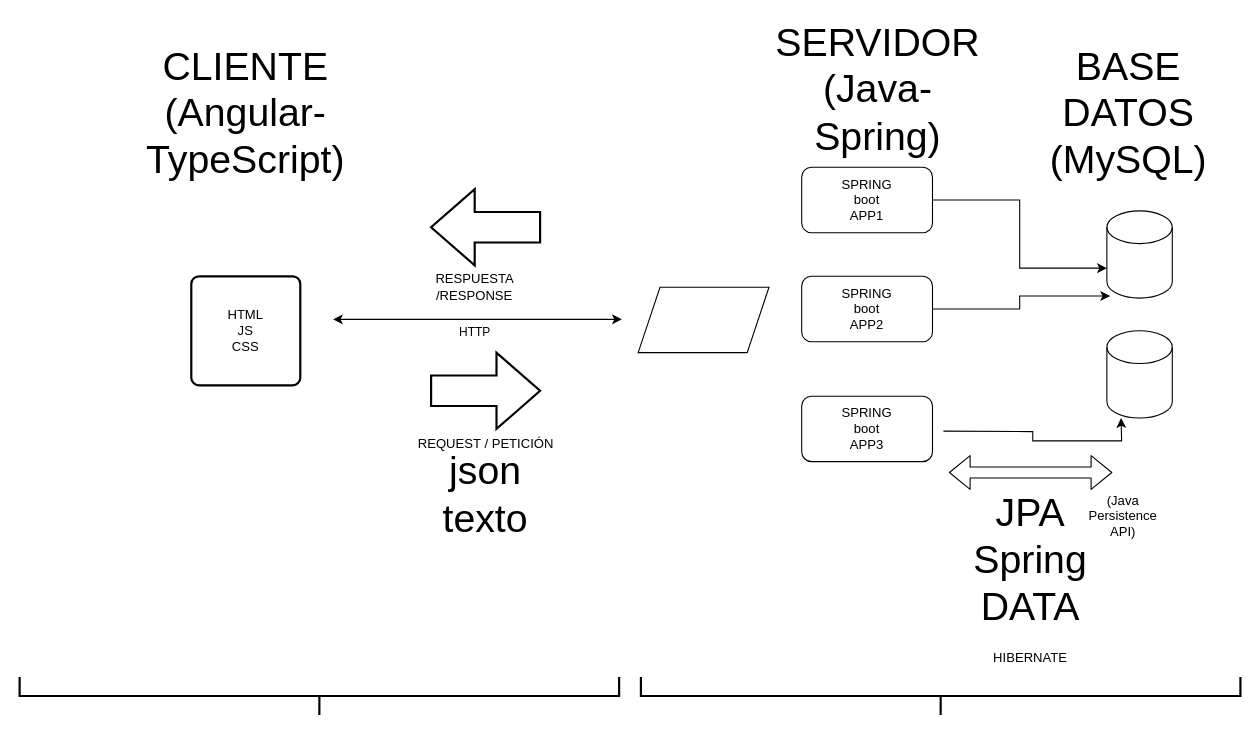
This 1260x735 diagram has some shape labels left out. The shapes that lost their labels are listed below. From the top down, each one's box as (x1, y1, x2, y2) in pixels, then its label:
(637, 286, 769, 353): SERVIDOR spring CLOUD
(18, 675, 620, 716): CAPA CLIENTE
(639, 675, 1241, 716): CAPA SERVIDOR
